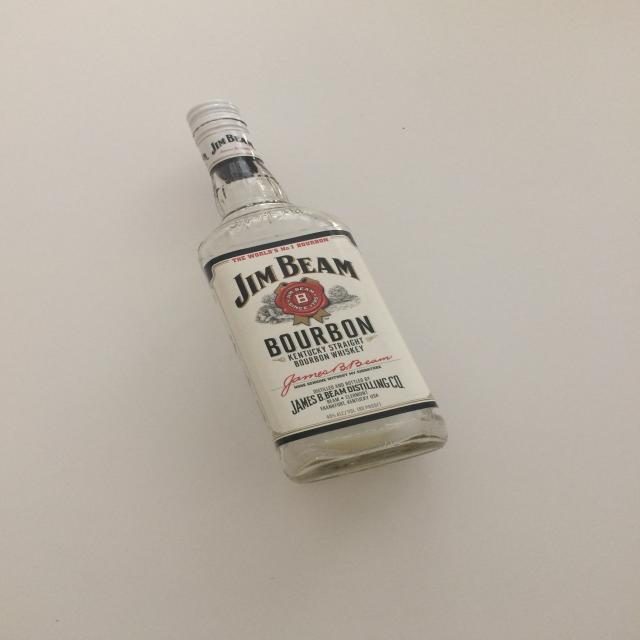glass: (185, 99, 448, 484)
